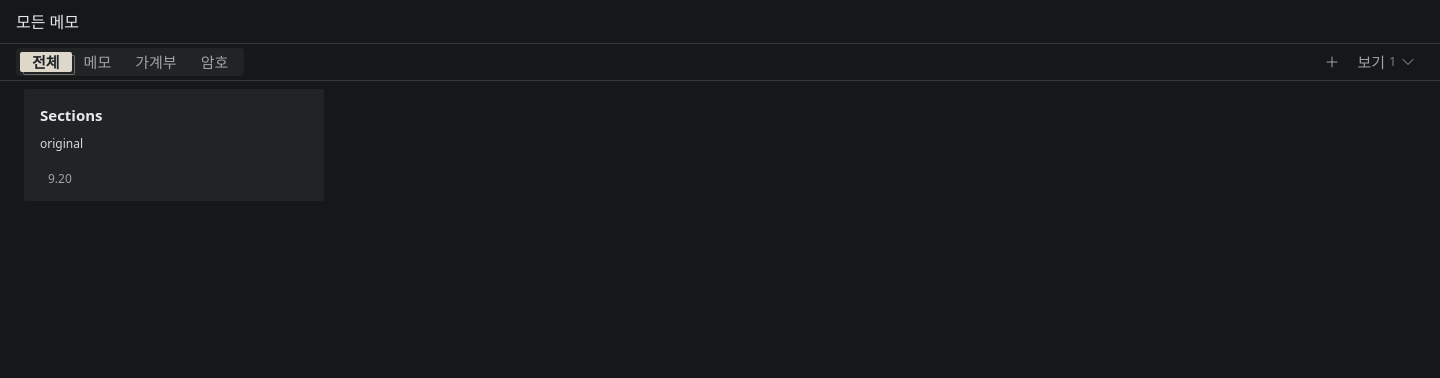
undoes section creation and naming separately from plain body typing
The image size is (1440, 378).
Click the button "Sections original 9.20". click: (71, 115)
box: left=24, top=89, right=324, bottom=201
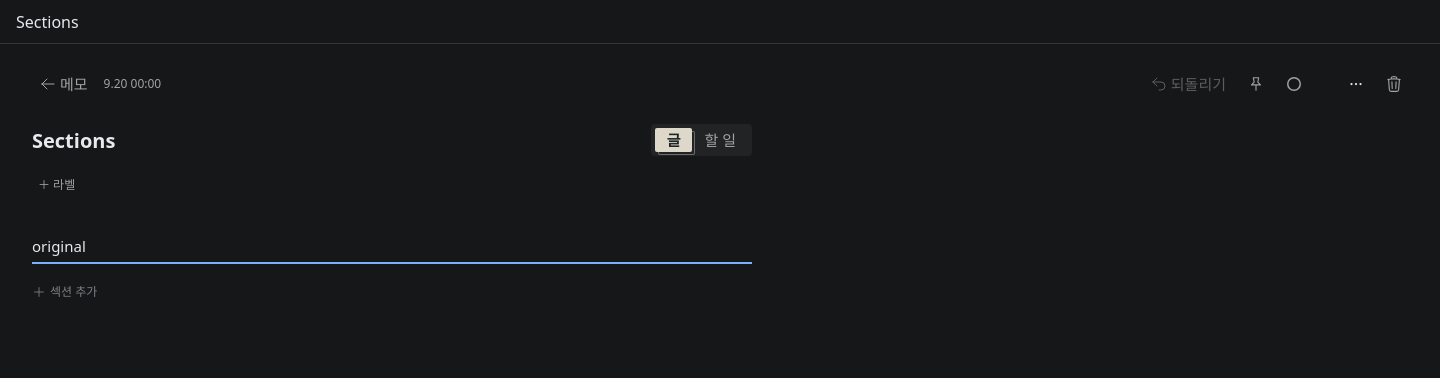
Replace the text in the text box named "메모 본문" with "typed". click: (392, 246)
box: left=32, top=230, right=752, bottom=262
Click the button "섹션 추가". click: (69, 292)
box: left=32, top=278, right=105, bottom=306
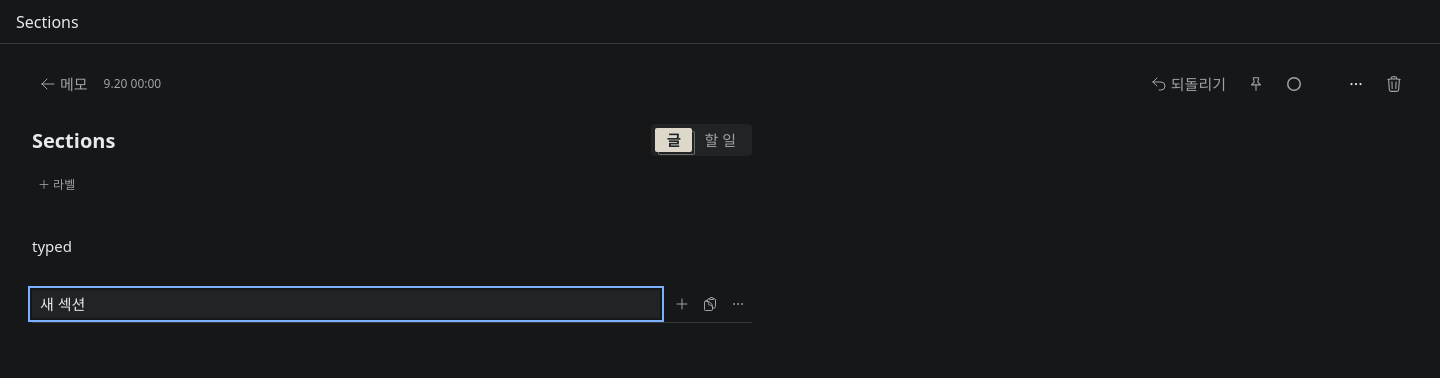
Replace the text in the field named "섹션 이름" with "Named". click: (346, 304)
box: left=32, top=290, right=660, bottom=318
Press Enter in the field named "섹션 이름", box left=32, top=290, right=660, bottom=318
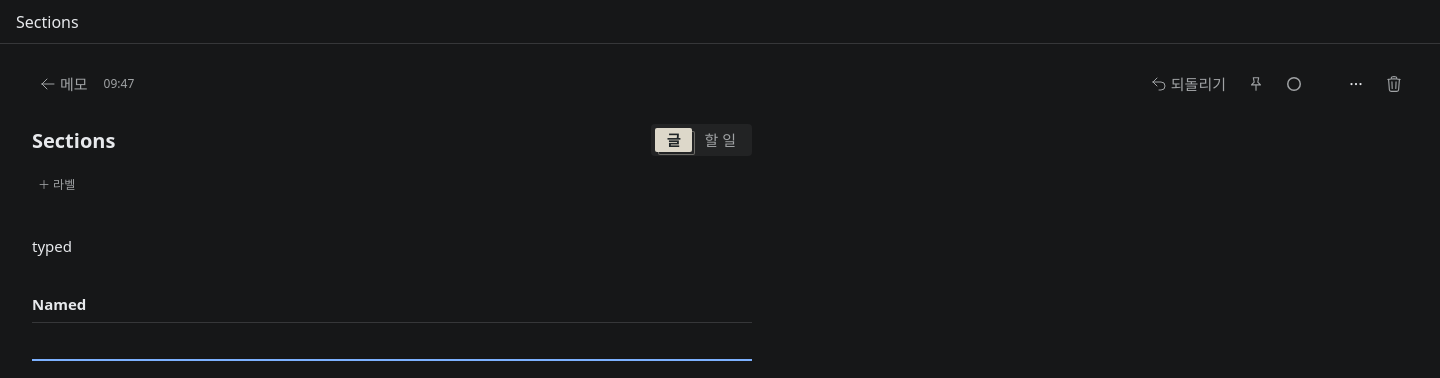
Expected: the heading "Named" is shown, left=32, top=294, right=86, bottom=314
Click the button "되돌리기". click: (1188, 84)
box: left=1143, top=70, right=1234, bottom=98
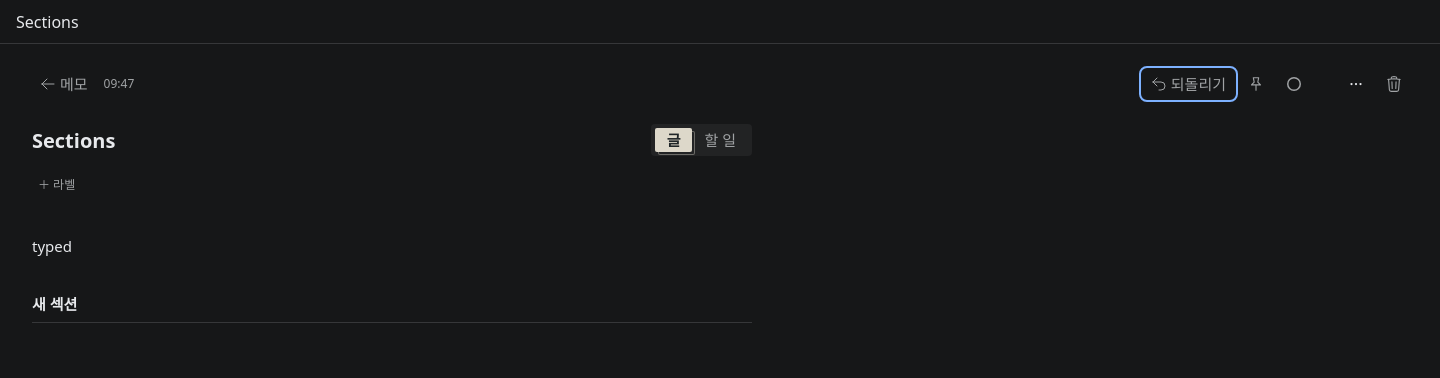
Expected: the heading "새 섹션" is shown, left=32, top=294, right=77, bottom=314
Click the button "되돌리기". click: (1188, 84)
box: left=1143, top=70, right=1234, bottom=98
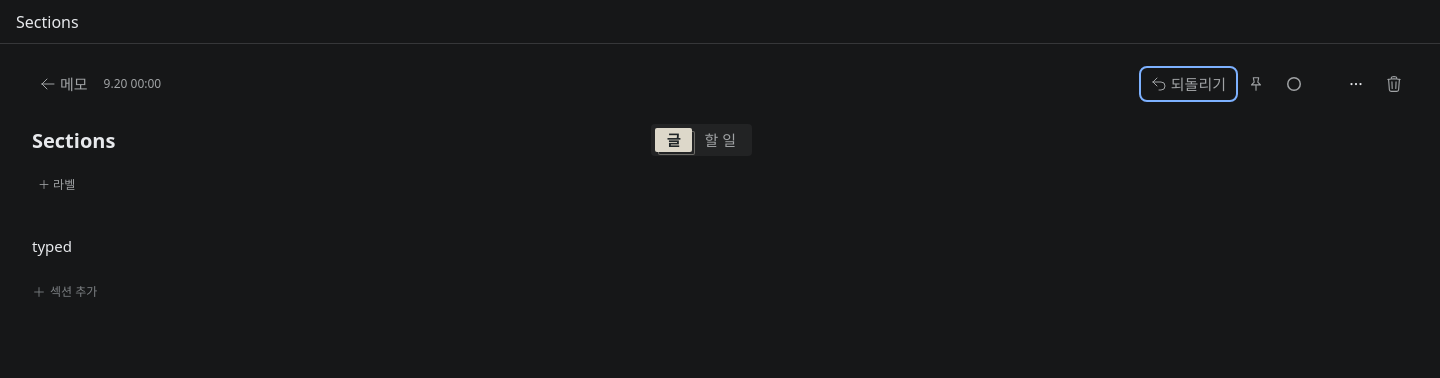
Expected: the heading "새 섹션" is gone
Click the button "되돌리기". click: (1188, 84)
box: left=1143, top=70, right=1234, bottom=98
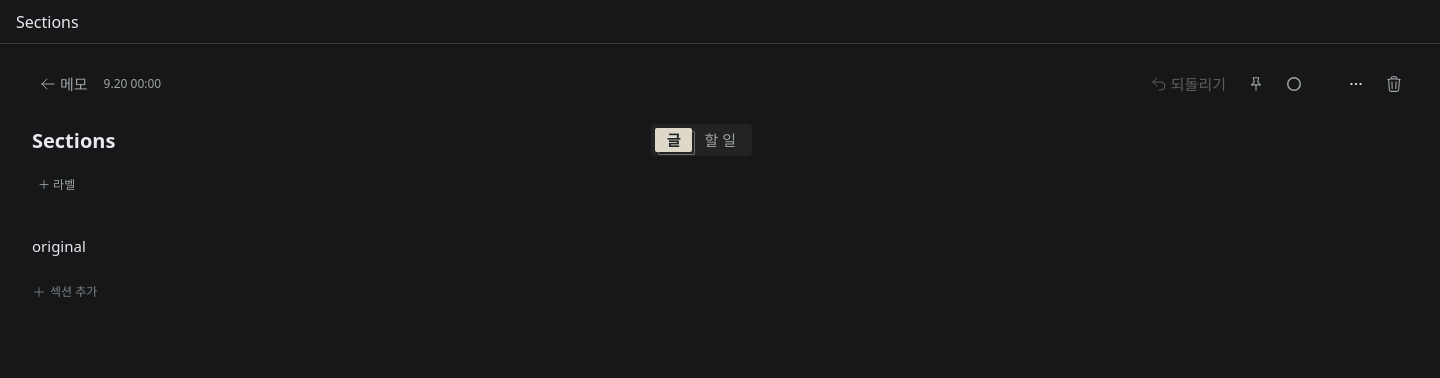
Expected: the text box named "메모 본문" holds "original", left=32, top=230, right=752, bottom=262
